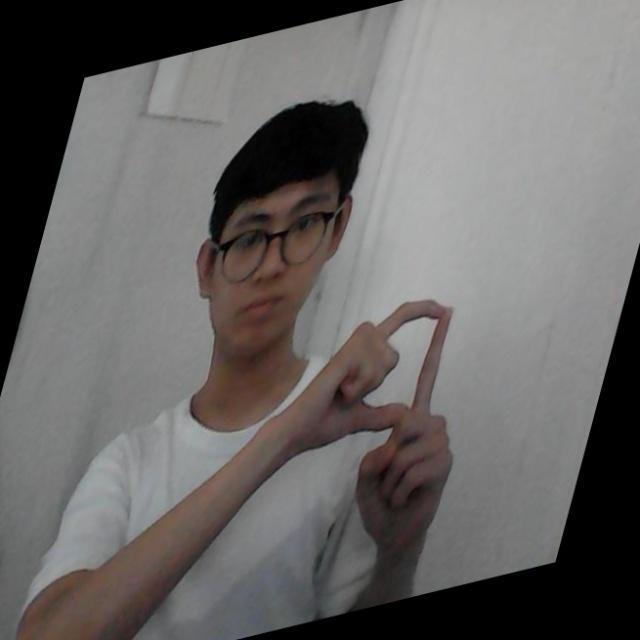D: (347, 289, 459, 482)
